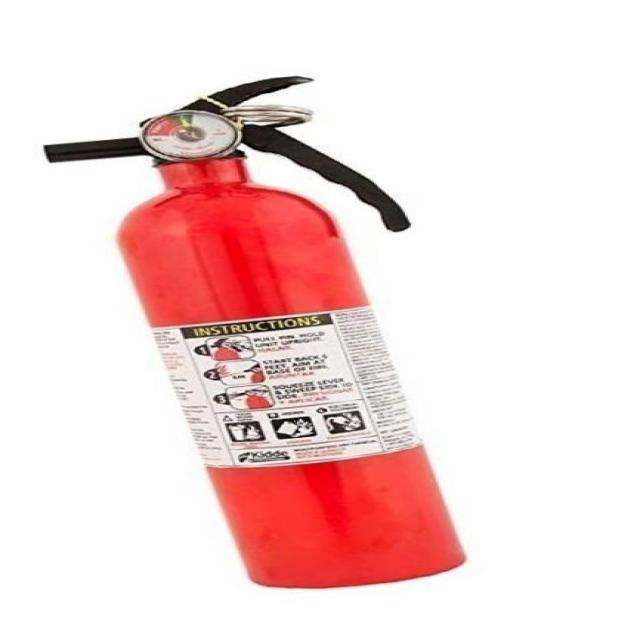fire_extinguisher: (31, 70, 482, 596)
